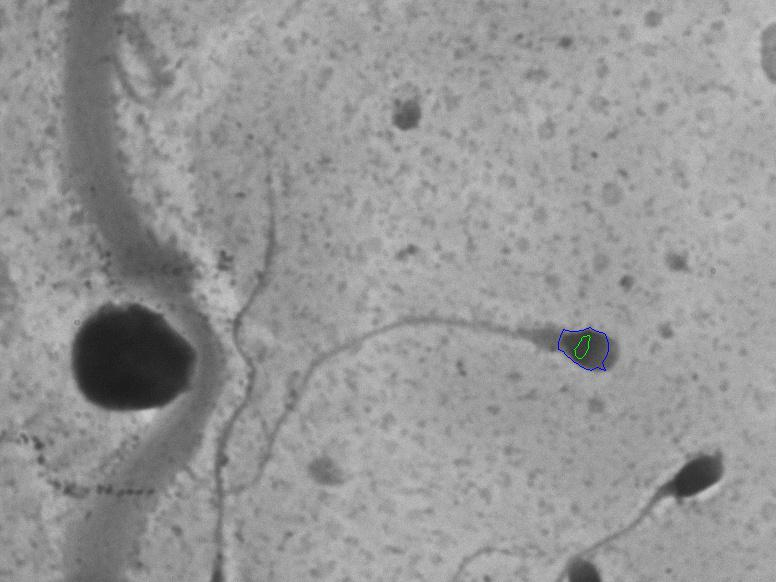Abnormal: (529, 430, 751, 566)
